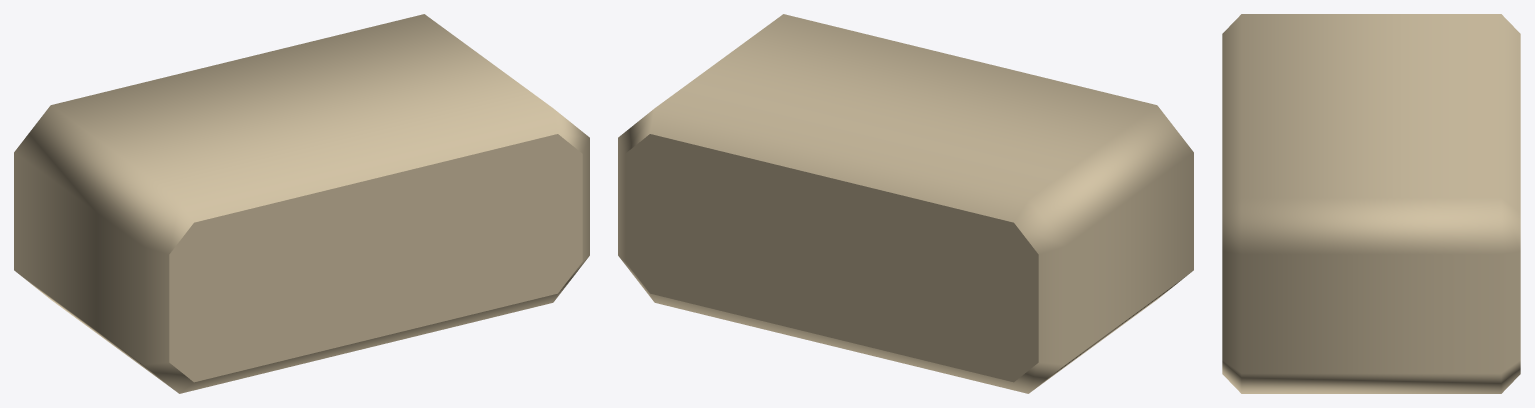
The model's file is t10_cabinet.obj.
3 renders of one model, left to right at view 1: azimuth 30°, elevation 25°; view 2: azimuth 150°, elevation 25°; view 3: azimuth 270°, elevation 25°, orthographic.
Visible parts, largest first — view 1: t10_cabinet; view 2: t10_cabinet; view 3: t10_cabinet.
Boxes of the visible parts, x1,y1,x2,y2 form: t10_cabinet: [14, 14, 589, 393]; t10_cabinet: [618, 14, 1193, 393]; t10_cabinet: [1222, 14, 1520, 393].
Bounding box in the file's own units: 2.69 × 1.12 × 1.55.
